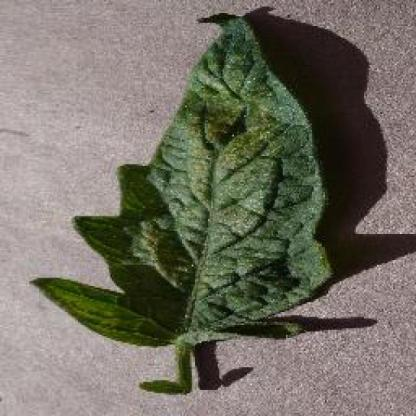Tomato_Spider_Mites: (32, 15, 330, 343)
